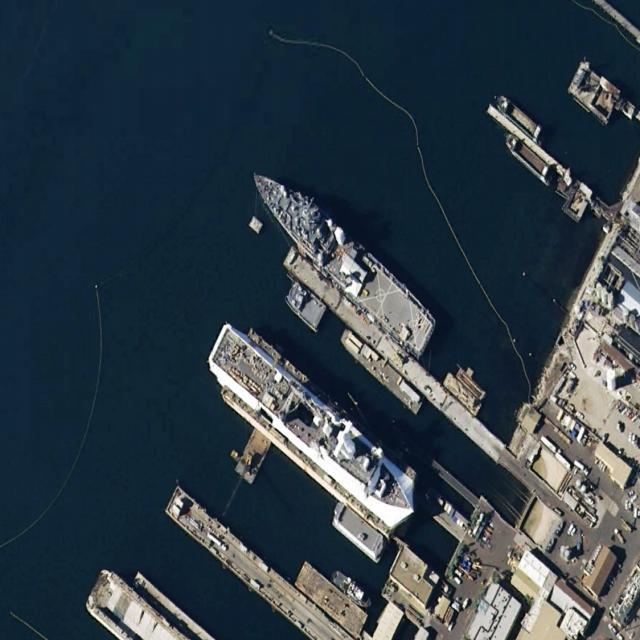Cargo: (503, 132, 556, 188), (493, 91, 543, 144)
Landing: (241, 152, 440, 360), (210, 327, 419, 523)
Other Ship: (282, 277, 327, 331), (330, 567, 375, 612)
